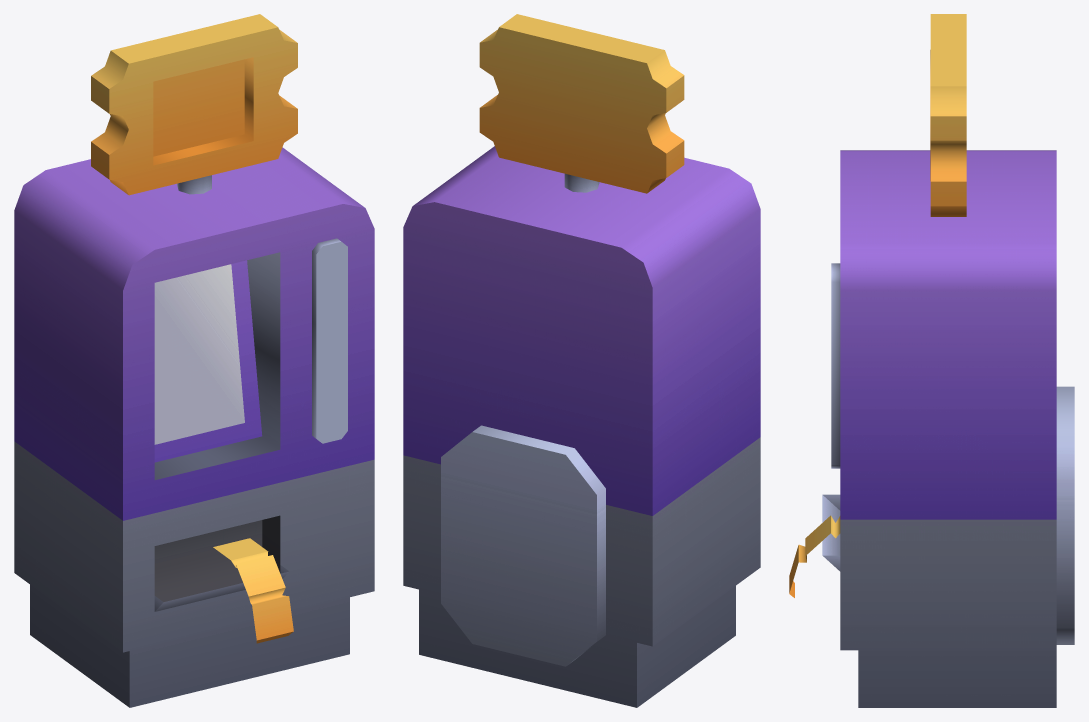
File: ticket-machine.glb
3 views of the same model, side by side, from view 1: azimuth 30°, elevation 25°; view 2: azimuth 150°, elevation 25°; view 3: azimuth 270°, elevation 25° (orthographic).
Parts seen in each view (by area): view 1: ticket-machine, rotate-y; view 2: ticket-machine, rotate-y; view 3: ticket-machine, rotate-y.
Boxes of the visible parts, left/top/right/bottom form: ticket-machine: left=14, top=147, right=374, bottom=707; rotate-y: left=91, top=14, right=297, bottom=195; ticket-machine: left=403, top=146, right=760, bottom=707; rotate-y: left=479, top=14, right=684, bottom=193; ticket-machine: left=789, top=150, right=1074, bottom=707; rotate-y: left=930, top=14, right=966, bottom=216.
Size of the model in its own units: 0.4 by 0.925 by 0.3958.
1 material, 1 textured.
